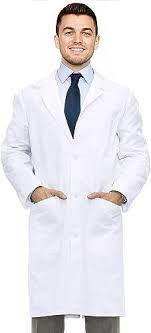Bata-Correcta: (1, 2, 149, 318)
